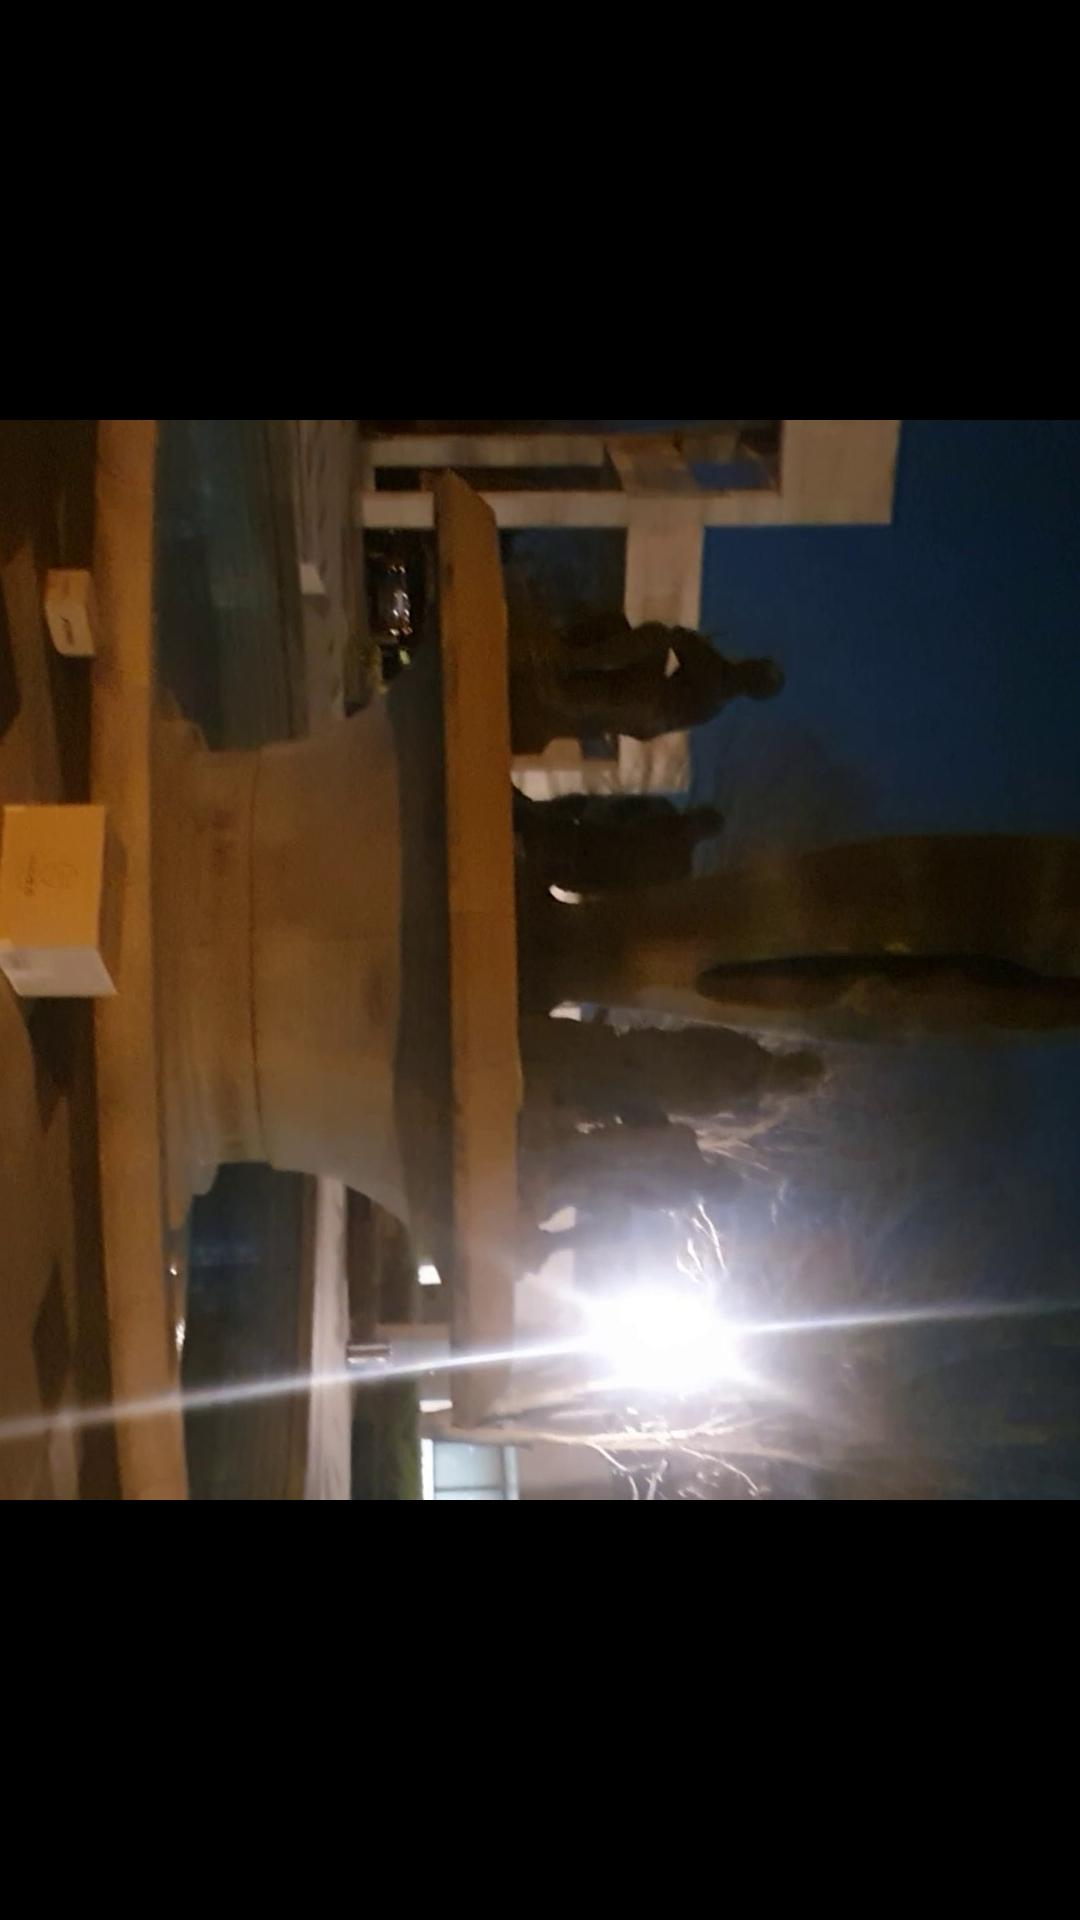Box: (0, 783, 120, 1011), (30, 563, 120, 655)
